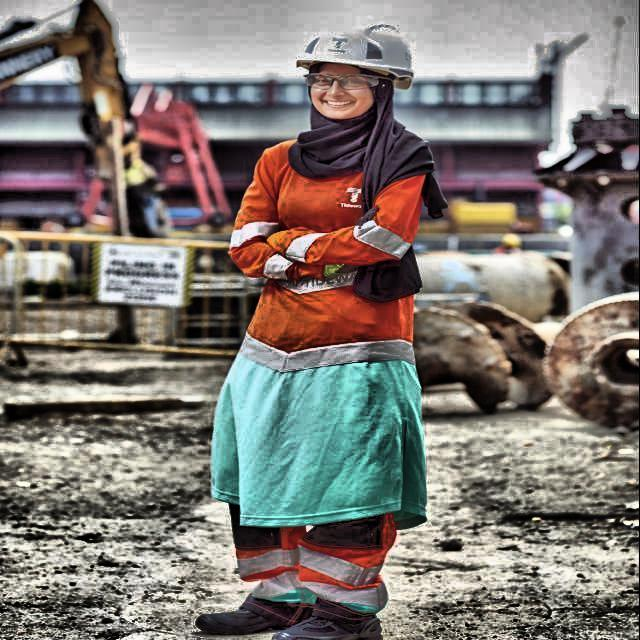safety_jacket: (231, 134, 429, 363)
